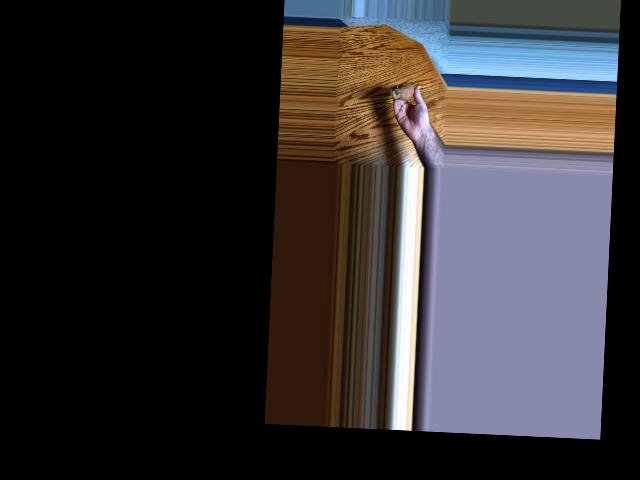sweet_potato: (391, 74, 418, 100)
